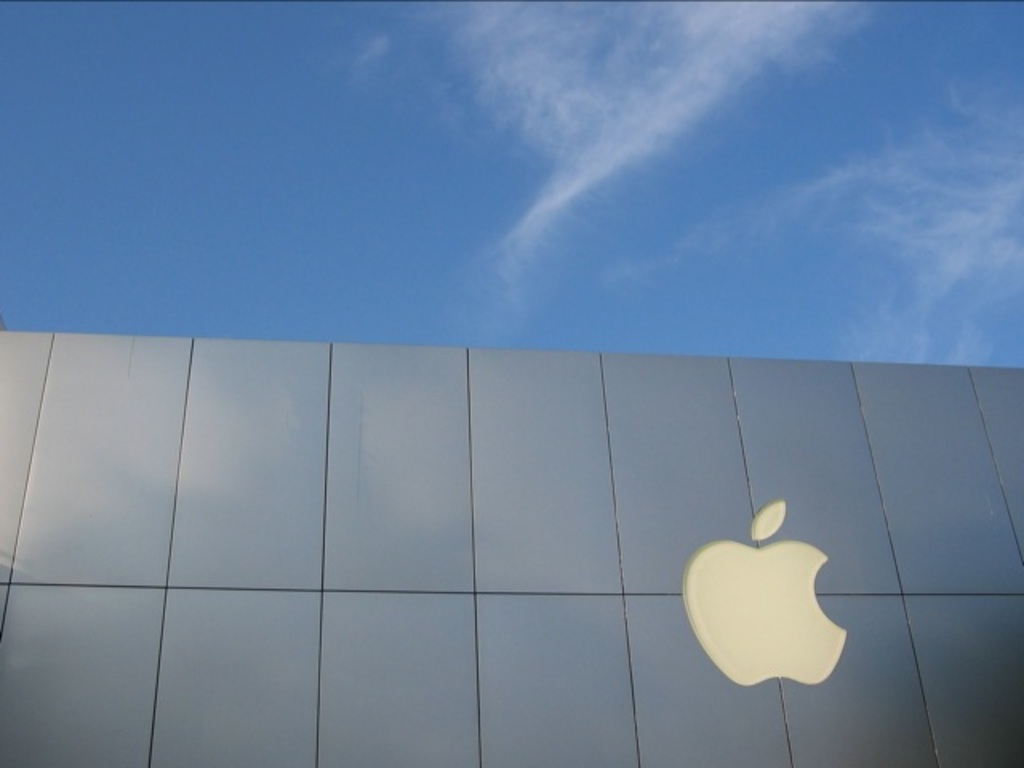Apple: (681, 523, 860, 705)
